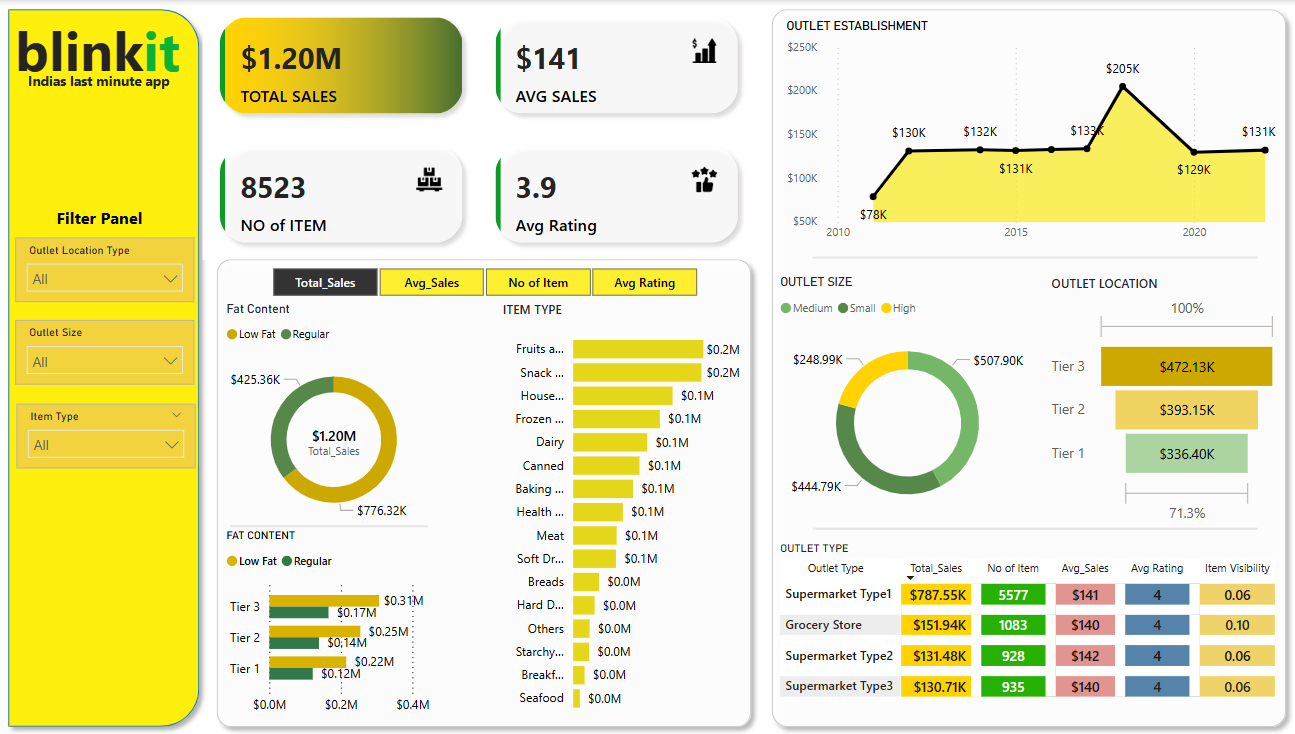

What the dashboard file says about the page in this screenshot:
{"tool":"powerbi","page":{"name":"Page 1","canvas":[1280,720],"ordinal":0},"visuals":[{"type":"shape","box":[0,0,205,720],"z":0},{"type":"textbox","box":[11.2,7.5,181.2,86.2],"z":1000},{"type":"textbox","box":[23.8,65,181.2,28.8],"z":2000},{"type":"cardVisual","fields":{"Data":["BlinkIT Grocery Data.Total_Sales","BlinkIT Grocery Data.Avg_Sales","BlinkIT Grocery Data.No of Item","BlinkIT Grocery Data.Avg Rating"]},"box":[199.3,0,540.5,254.3],"z":3000},{"type":"shape","box":[204.2,244.6,540.5,475.7],"z":4000},{"type":"donutChart","title":"Fat Content","fields":{"Y":["BlinkIT Grocery Data.Avg_Sales"],"Category":["BlinkIT Grocery Data.Item Fat Content"]},"box":[217.7,294.7,220.1,229.9],"z":5000},{"type":"slicer","fields":{"Values":["Matrics2.Matrics2"]},"box":[242.1,255.6,464.7,40.4],"z":6000},{"type":"cardVisual","fields":{"Data":["BlinkIT Grocery Data.Total_Sales"]},"box":[280,399.9,95.4,53.8],"z":7000},{"type":"clusteredBarChart","title":"FAT CONTENT","fields":{"Y":["BlinkIT Grocery Data.Avg_Sales"],"Category":["BlinkIT Grocery Data.Outlet Location Type"],"Series":["BlinkIT Grocery Data.Item Fat Content"]},"box":[217.7,517.3,220.1,189.5],"z":8000},{"type":"barChart","title":"ITEM TYPE","fields":{"Y":["BlinkIT Grocery Data.Avg_Sales"],"Category":["BlinkIT Grocery Data.Item Type"]},"box":[487.9,294.7,242.1,412.1],"z":9000},{"type":"shape","box":[747.2,0,520.9,720.2],"z":10000},{"type":"lineChart","title":"OUTLET ESTABLISHMENT","fields":{"Category":["BlinkIT Grocery Data.Outlet Establishment Year"],"Y":["BlinkIT Grocery Data.Total_Sales"]},"box":[765.5,18.3,490.4,226.2],"z":11000},{"type":"shape","box":[796.1,249.5,435.3,4.9],"z":12000},{"type":"donutChart","title":"OUTLET SIZE","fields":{"Y":["BlinkIT Grocery Data.Avg_Sales"],"Category":["BlinkIT Grocery Data.Outlet Size"]},"box":[759.4,269,259.2,248.2],"z":13000},{"type":"funnel","title":"OUTLET LOCATION","fields":{"Y":["BlinkIT Grocery Data.Total_Sales"],"Category":["BlinkIT Grocery Data.Outlet Location Type"]},"box":[1024.7,269,231.1,248.2],"z":14000},{"type":"pivotTable","title":"OUTLET TYPE","fields":{"Values":["BlinkIT Grocery Data.Total_Sales","BlinkIT Grocery Data.No of Item","BlinkIT Grocery Data.Avg_Sales","BlinkIT Grocery Data.Avg Rating","Avg(BlinkIT Grocery Data.Item Visibility)"],"Rows":["BlinkIT Grocery Data.Outlet Type"]},"box":[759.4,529.5,496.5,177.3],"z":15000},{"type":"slicer","fields":{"Values":["BlinkIT Grocery Data.Outlet Location Type"]},"box":[15.7,231.8,174.9,63.6],"z":16000},{"type":"slicer","fields":{"Values":["BlinkIT Grocery Data.Outlet Size"]},"box":[15.7,312.6,174.9,63.6],"z":17000},{"type":"slicer","fields":{"Values":["BlinkIT Grocery Data.Item Type"]},"box":[16.9,394.5,174.9,63.6],"z":18000},{"type":"textbox","box":[51.4,196.9,102.7,35.5],"z":19000},{"type":"shape","box":[796.1,514.8,435.3,4.9],"z":20000},{"type":"shape","box":[226.2,509.9,193.2,9.8],"z":21000}]}

Visuals, with their boxes in screenshot pixels (x1, y1, x2, y2), scaled from the page's 1280x720 canvas onto the 1295x734 screenshot:
shape: 0,0,207,733
textbox: 11,8,195,96
textbox: 24,66,207,96
cardVisual - BlinkIT Grocery Data.Total_Sales x BlinkIT Grocery Data.Avg_Sales: 202,0,748,259
shape: 207,249,753,733
"Fat Content" donutChart: 220,300,443,535
slicer - Matrics2.Matrics2: 245,261,715,302
cardVisual - BlinkIT Grocery Data.Total_Sales: 283,408,380,463
"FAT CONTENT" clusteredBarChart: 220,527,443,721
"ITEM TYPE" barChart: 494,300,739,721
shape: 756,0,1283,733
"OUTLET ESTABLISHMENT" lineChart: 774,19,1271,249
shape: 805,254,1246,259
"OUTLET SIZE" donutChart: 768,274,1031,527
"OUTLET LOCATION" funnel: 1037,274,1271,527
"OUTLET TYPE" pivotTable: 768,540,1271,721
slicer - BlinkIT Grocery Data.Outlet Location Type: 16,236,193,301
slicer - BlinkIT Grocery Data.Outlet Size: 16,319,193,384
slicer - BlinkIT Grocery Data.Item Type: 17,402,194,467
textbox: 52,201,156,237
shape: 805,525,1246,530
shape: 229,520,424,530
